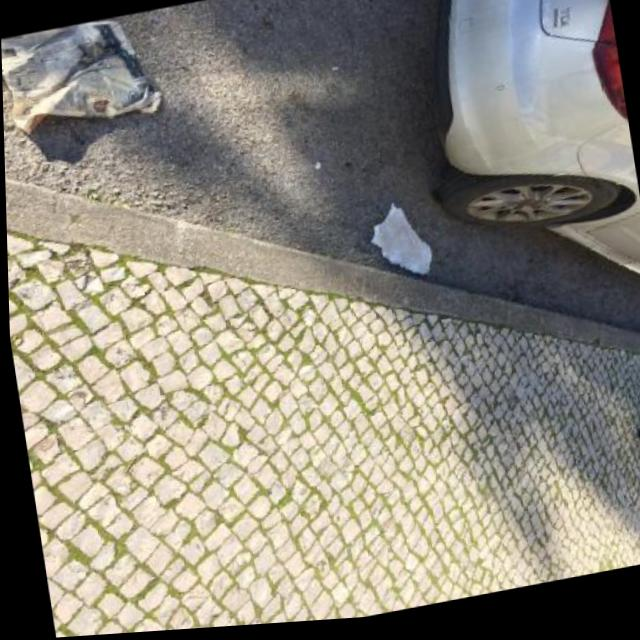foam: (365, 194, 435, 282)
paper: (1, 8, 169, 144), (638, 473, 640, 489)
